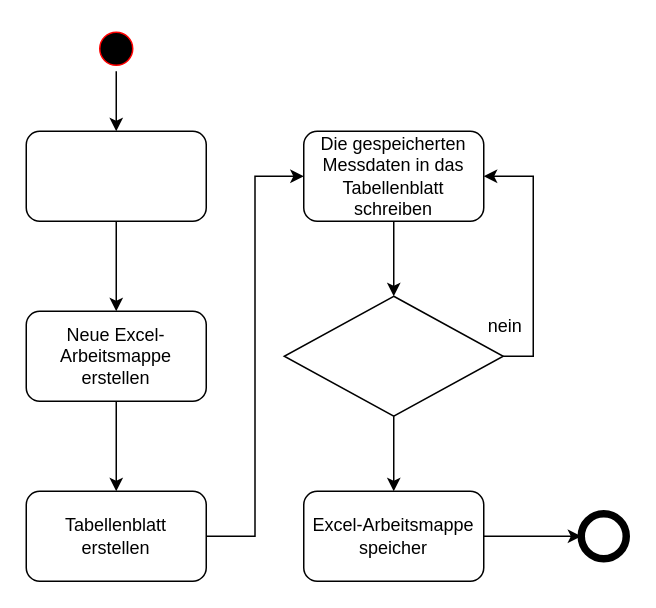
This 656x608 diagram has some shape labels left out. The centre of each missing label's shape, as x and y in pixels:
Daten für alle Bilder geschrieben?: the point at 393,355
Daten zur Verabeitung laden: the point at 115,175
